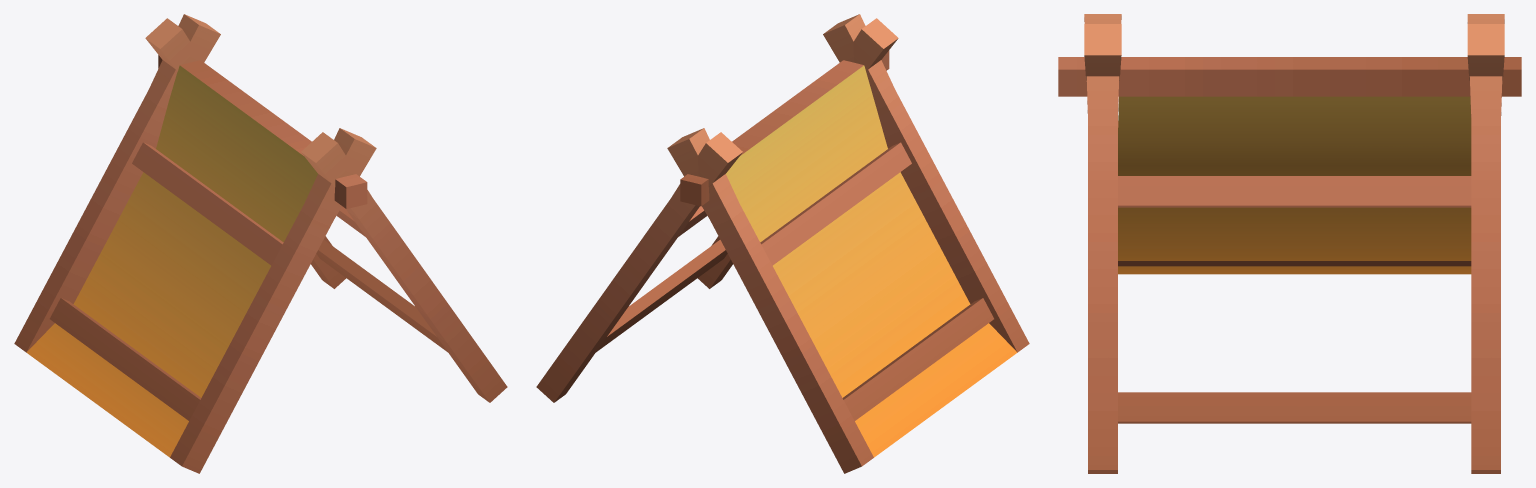
The model's file is tent-canvas-half.glb.
The picture shows the model from 3 angles, left to right: view 1: azimuth 30°, elevation 25°; view 2: azimuth 150°, elevation 25°; view 3: azimuth 270°, elevation 25°; orthographic projection. The views are drawn at different scales.
Visible parts, largest first — view 1: tent-canvas-half; view 2: tent-canvas-half; view 3: tent-canvas-half.
Part boxes in pixels (x1,y1,x2,y2): tent-canvas-half: (14,14,507,473); tent-canvas-half: (536,14,1029,473); tent-canvas-half: (1058,14,1521,473).
Size of the model in its own units: 0.5608 by 0.4914 by 0.561.
Materials: 1 (1 with a texture image).
